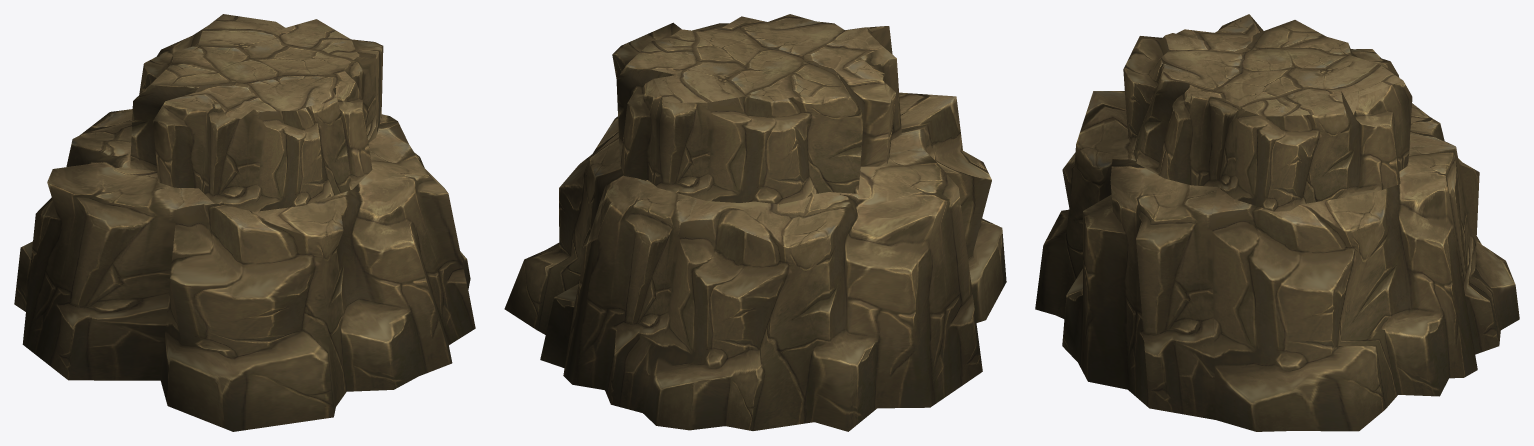
File: D_dimian006.fbx
3 views of the same model, side by side, from view 1: azimuth 30°, elevation 25°; view 2: azimuth 150°, elevation 25°; view 3: azimuth 270°, elevation 25° (orthographic). The views are drawn at different scales.
Parts seen in each view (by area): view 1: D_dimian006; view 2: D_dimian006; view 3: D_dimian006.
Boxes of the visible parts, x1,y1,x2,y2 form: D_dimian006: (14,14,475,431); D_dimian006: (504,14,1006,431); D_dimian006: (1035,14,1519,431).
Bounding box in the file's own units: 2003 × 1253 × 2016.
